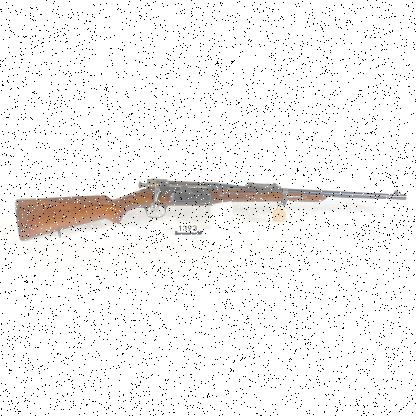gun: (13, 176, 404, 240)
